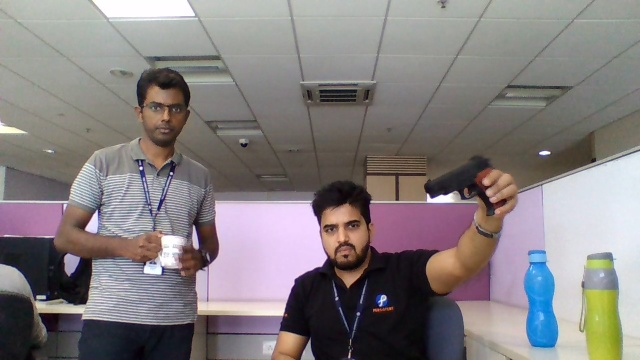gun: (424, 158, 482, 206)
